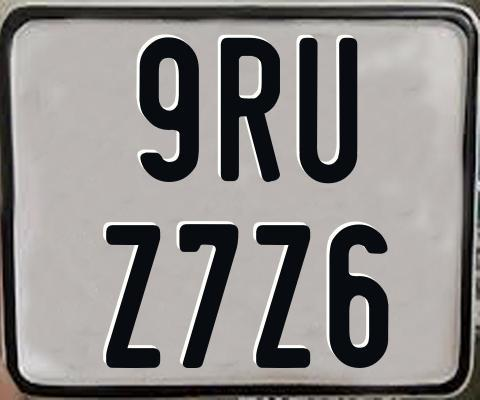6: (326, 224, 388, 371)
7: (179, 222, 241, 367)
9: (139, 35, 203, 186)
R: (220, 38, 279, 185)
U: (299, 36, 363, 187)
Z: (104, 223, 162, 369), (256, 222, 312, 371)
